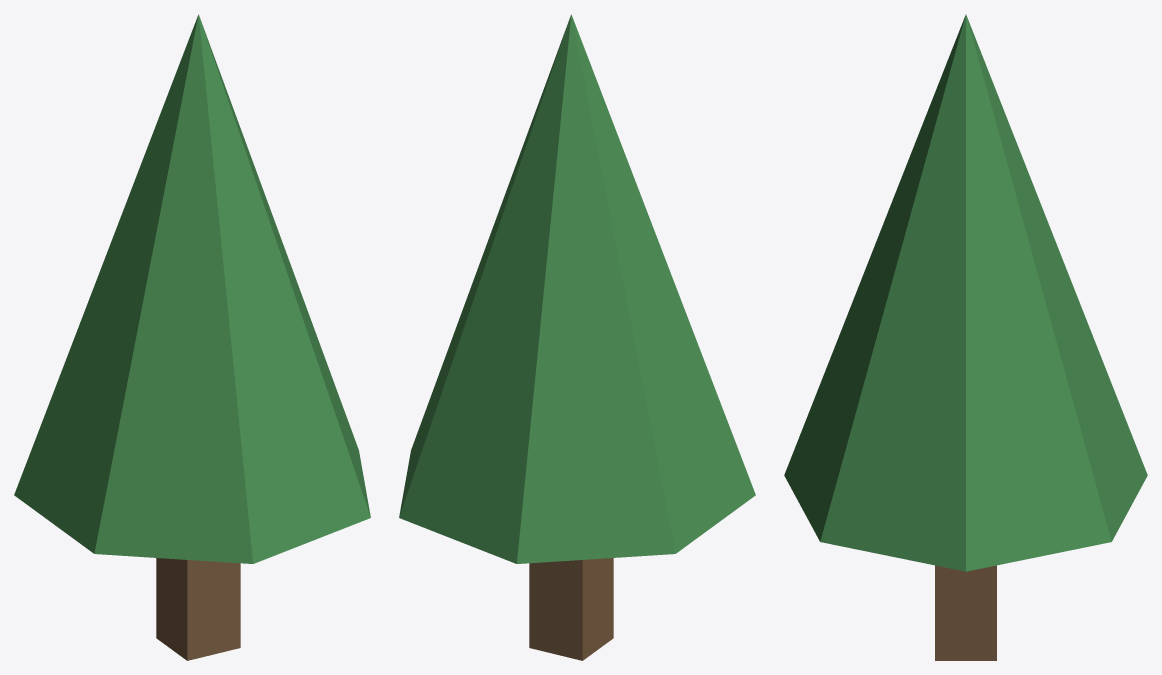
Rendered from tree.glb.
The picture shows the model from 3 angles, left to right: view 1: azimuth 30°, elevation 25°; view 2: azimuth 150°, elevation 25°; view 3: azimuth 270°, elevation 25°; orthographic projection.
Visible parts, largest first — view 1: tree; view 2: tree; view 3: tree.
Part boxes in pixels (x1,y1,x2,y2): tree: (14,14,370,660); tree: (399,14,755,660); tree: (784,14,1147,660).
Bounding box in the file's own units: 4.56 × 9 × 4.68.
